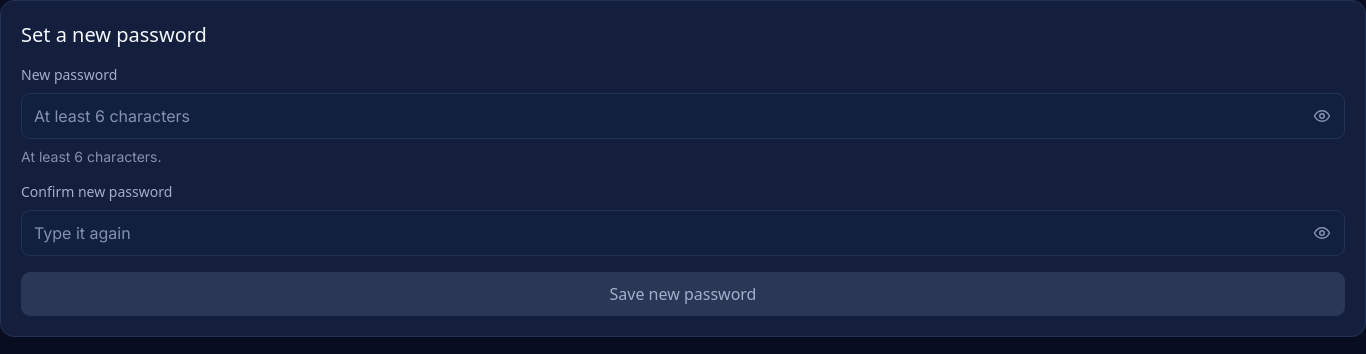
Scenario: UpdatePasswordForm breach-corpus gate › refuses a breached password on the reset flow too
Type "correct horse battery staple" into the password field labelled "New password". click: (661, 116)
box: x1=22 y1=94 x2=1300 y2=138
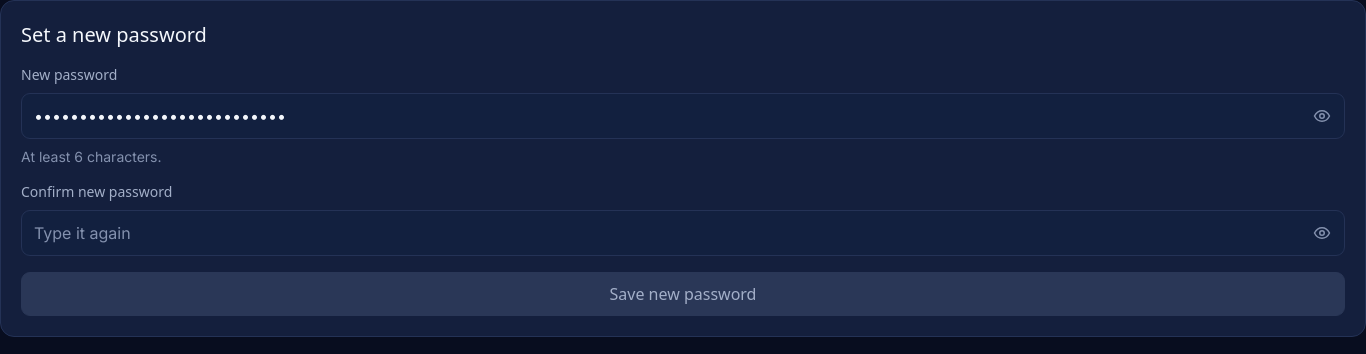
Type "correct horse battery staple" into the password field labelled "Confirm new password". click: (661, 233)
box: x1=22 y1=211 x2=1300 y2=255
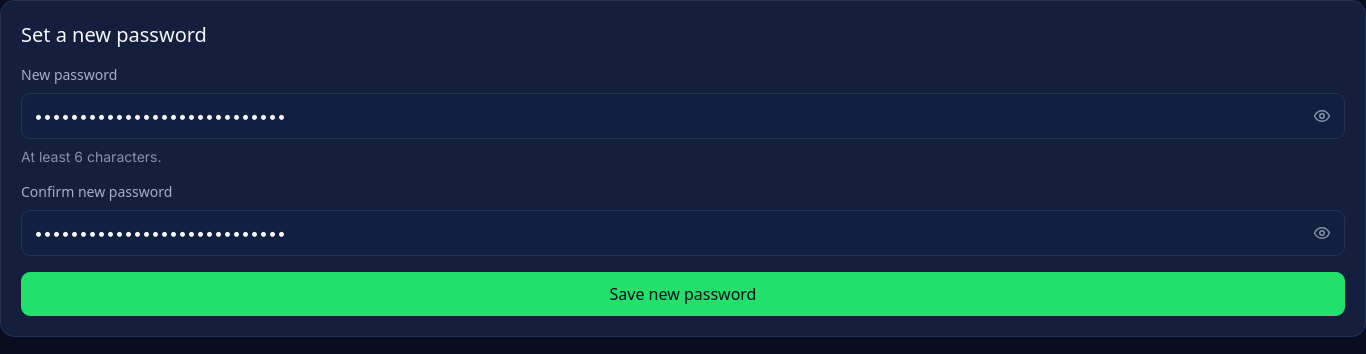
Click the button "Save new password". click: (683, 294)
box: x1=21 y1=272 x2=1345 y2=316
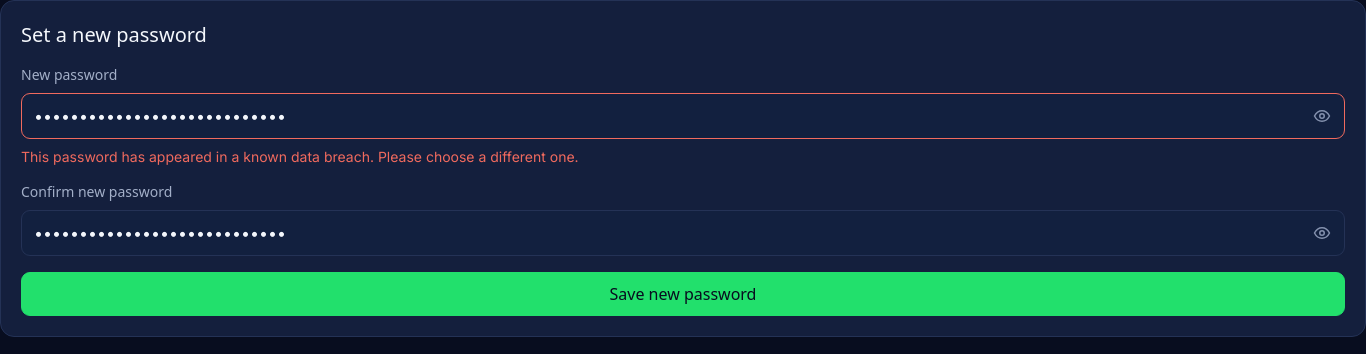
Check: the text "This password has appeared in a known data breach. Please choose a different one." is shown, box x1=21 y1=148 x2=579 y2=165
